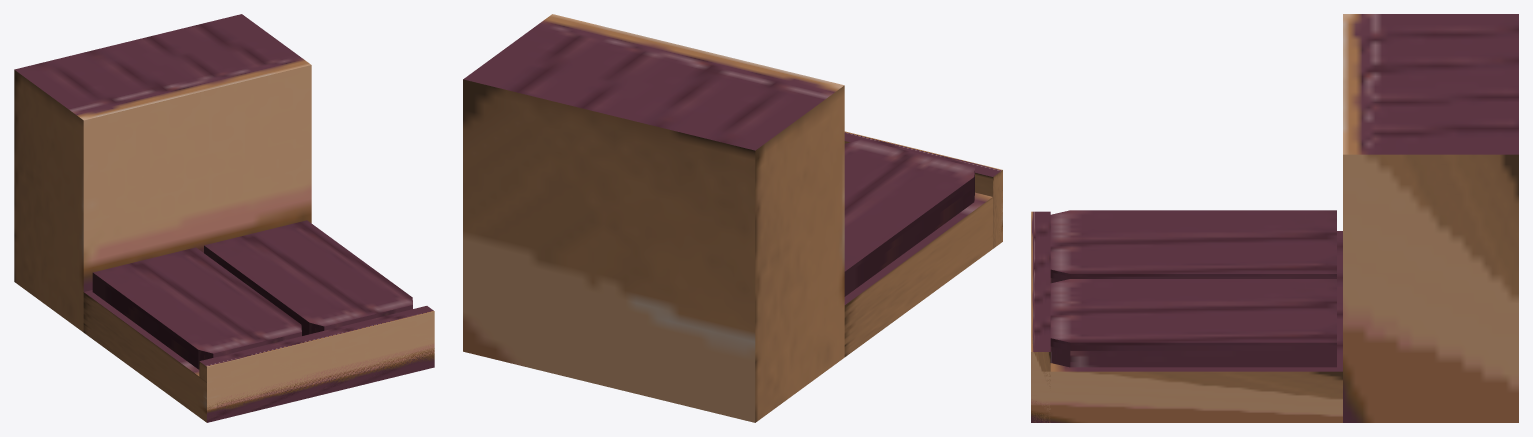
File: pz_whirled_0_fidelity_r1.obj
3 views of the same model, side by side, from view 1: azimuth 30°, elevation 25°; view 2: azimuth 150°, elevation 25°; view 3: azimuth 270°, elevation 25° (orthographic). The views are drawn at different scales.
Visible parts, largest first — view 1: pz_whirled_0_fidelity_r1; view 2: pz_whirled_0_fidelity_r1; view 3: pz_whirled_0_fidelity_r1.
Boxes of the visible parts, box(x1,y1,x2,y2) form: pz_whirled_0_fidelity_r1: box(14, 14, 434, 422); pz_whirled_0_fidelity_r1: box(463, 14, 1002, 422); pz_whirled_0_fidelity_r1: box(1031, 14, 1518, 422).
Size of the model in its own units: 0.85 by 0.757 by 1.25.
Materials: 1 (1 with a texture image).
